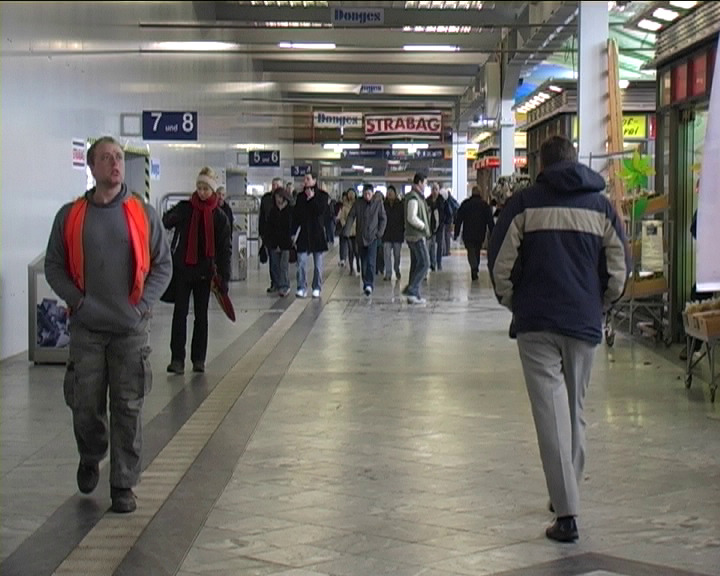deflection: (55, 139, 168, 269)
